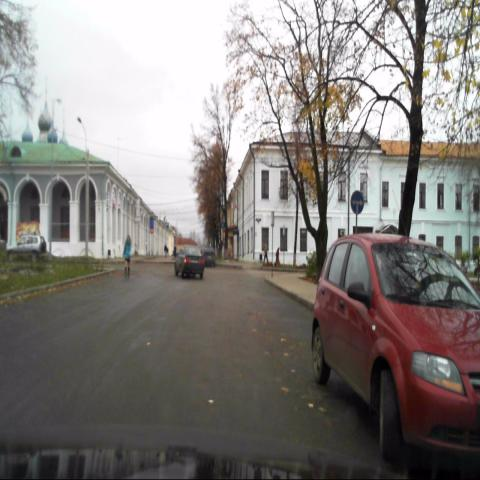4_1_6: (350, 190, 366, 218)
